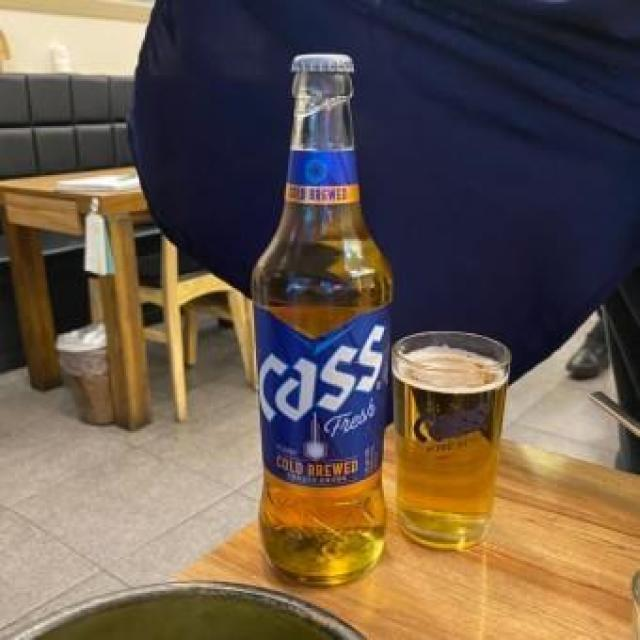beer-bottle: (255, 46, 394, 585)
